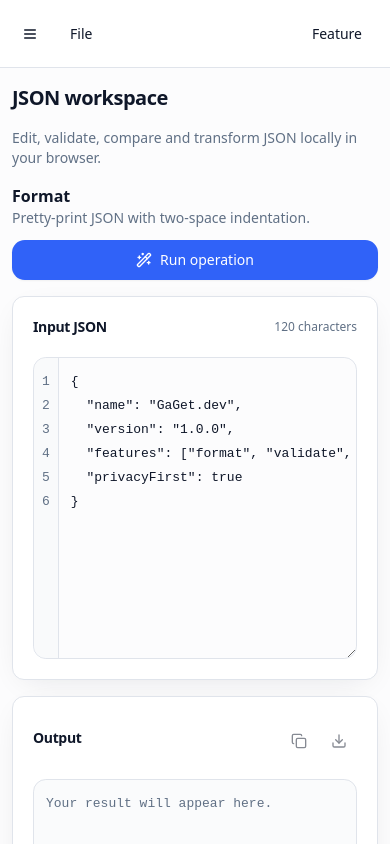
Test: JSON workspace operations › uses a flat mobile JSON feature list with search and no category disclosure controls
Step 1. Click the button "Feature" → (337, 34), box [296,14,378,54]
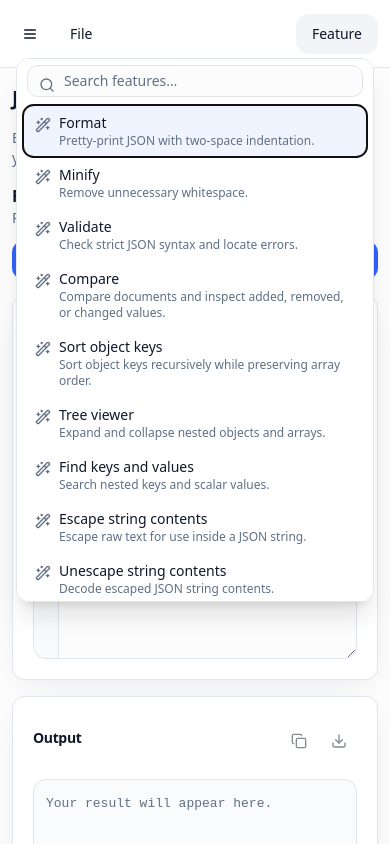
Expected: the number of menu items is 9
Step 2. Type "  vIeW  " into the search field labelled "Search features" → (195, 80), box [27,64,363,96]
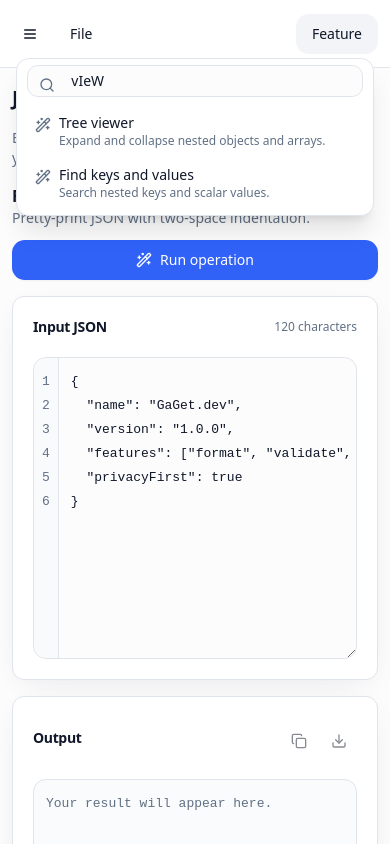
Expected: the menu item "Tree viewer Expand and collapse nested objects and arrays." is shown, [23,104,367,156]
Expected: the menu item "Find keys and values Search nested keys and scalar values." is shown, [23,156,367,208]
Expected: the number of menu items is 2, [23,104,367,156]; [23,156,367,208]
Step 3. Replace the text in the search field named "Search features" with "no-such-operation" → (195, 80), box [27,64,363,96]
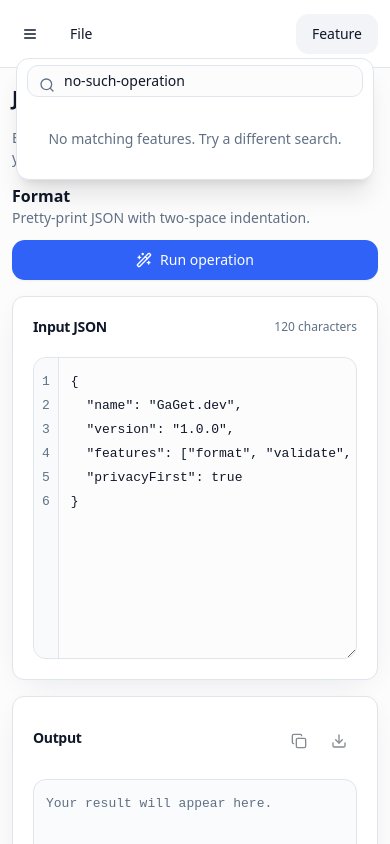
Expected: the message shows "No matching features", [48,128,342,148]
Step 4. Clear the search field named "Search features" → (195, 80), box [27,64,363,96]
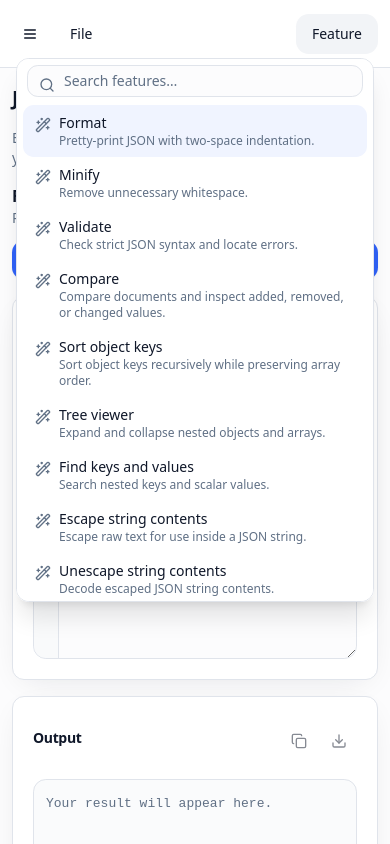
Expected: the number of menu items is 9
